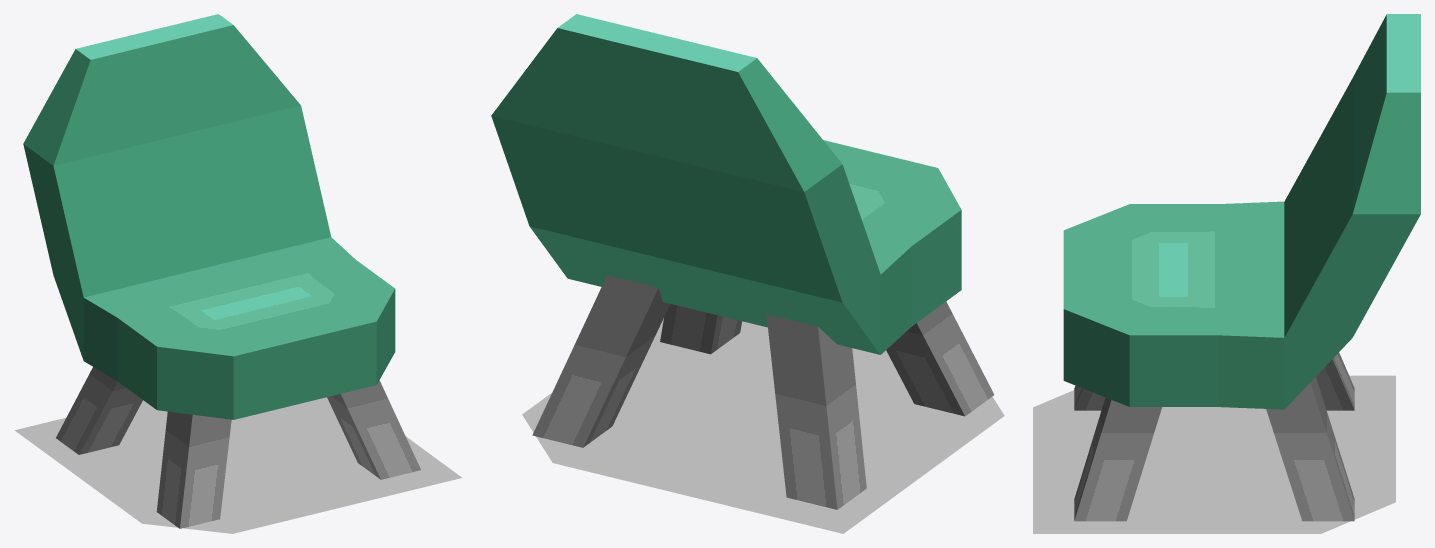
The picture shows the model from 3 angles, left to right: view 1: azimuth 30°, elevation 25°; view 2: azimuth 150°, elevation 25°; view 3: azimuth 270°, elevation 25°; orthographic projection. The views are drawn at different scales.
Parts seen in each view (by area): view 1: polygon1, polygon0; view 2: polygon1, polygon0; view 3: polygon1, polygon0.
Part boxes in pixels (x1=…): polygon1: x1=23, y1=14, x2=420, y2=528; polygon0: x1=15, y1=397, x2=461, y2=533; polygon1: x1=491, y1=14, x2=994, y2=509; polygon0: x1=522, y1=318, x2=1004, y2=533; polygon1: x1=1063, y1=14, x2=1420, y2=521; polygon0: x1=1033, y1=375, x2=1395, y2=533.
Bounding box in the file's own units: 5.49 × 6.49 × 5.69.
